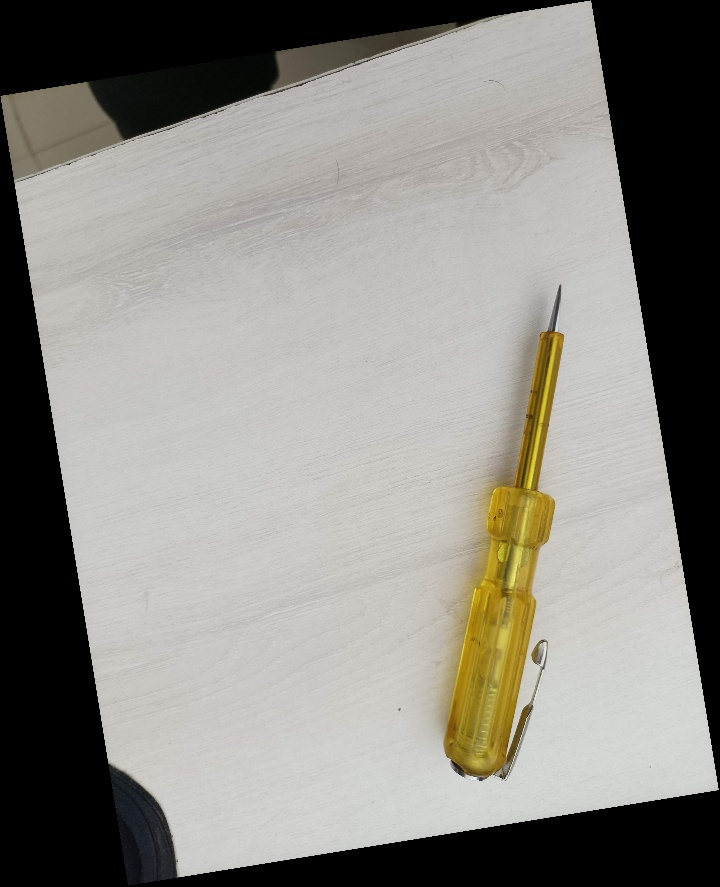screwdriver: (439, 268, 568, 785)
